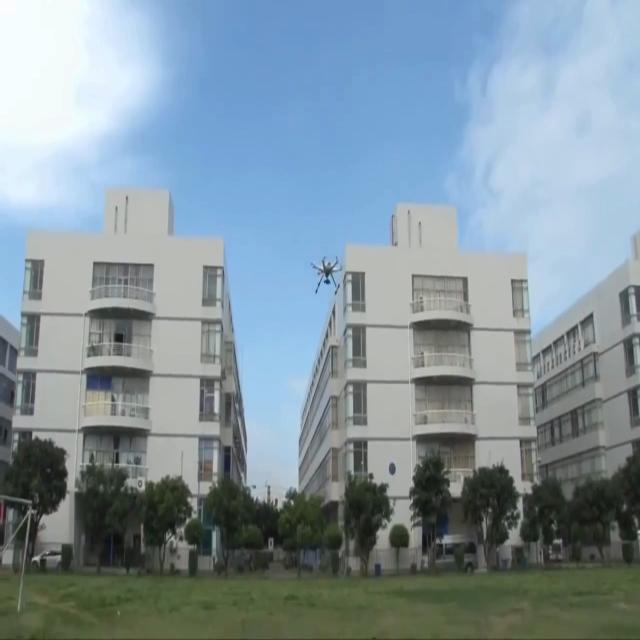drone: (310, 255, 342, 294)
